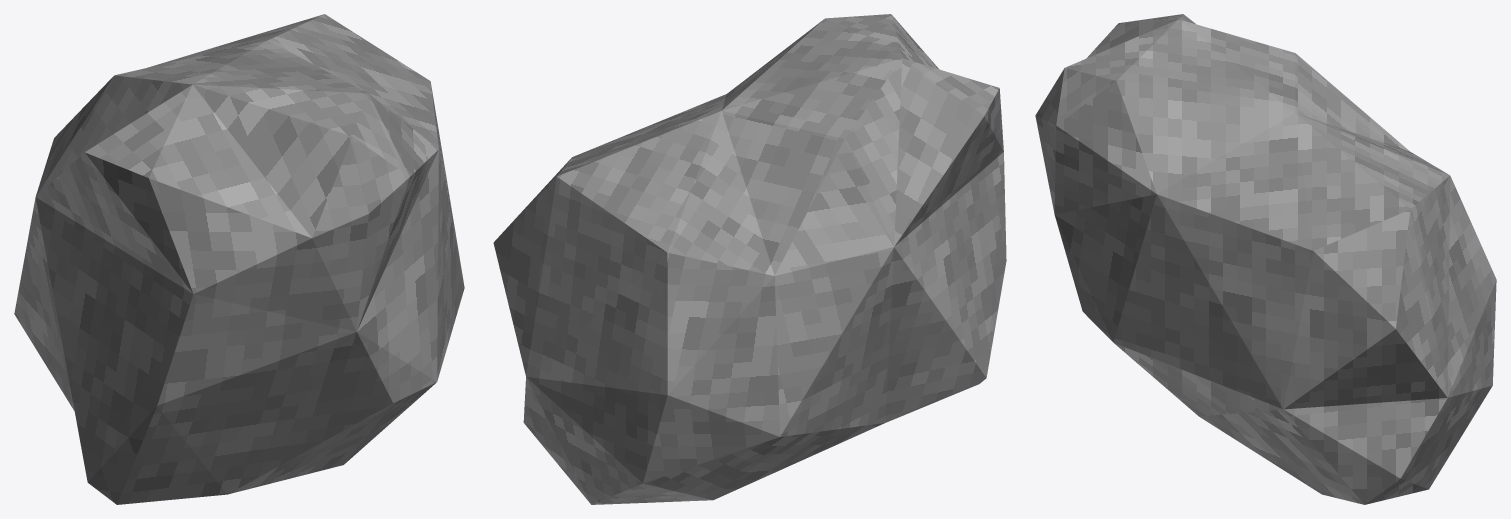
File: ChunkSmooth.glb
3 renders of one model, left to right at view 1: azimuth 30°, elevation 25°; view 2: azimuth 150°, elevation 25°; view 3: azimuth 270°, elevation 25°, orthographic. The views are drawn at different scales.
Visible parts, largest first — view 1: GeoSphere002; view 2: GeoSphere002; view 3: GeoSphere002.
Boxes of the visible parts, <box> form: GeoSphere002: <box>14,14,464,504</box>; GeoSphere002: <box>493,14,1006,504</box>; GeoSphere002: <box>1035,14,1496,504</box>.
Bounding box in the file's own units: 0.5691 × 0.5658 × 0.6156.
1 material, 1 textured.
